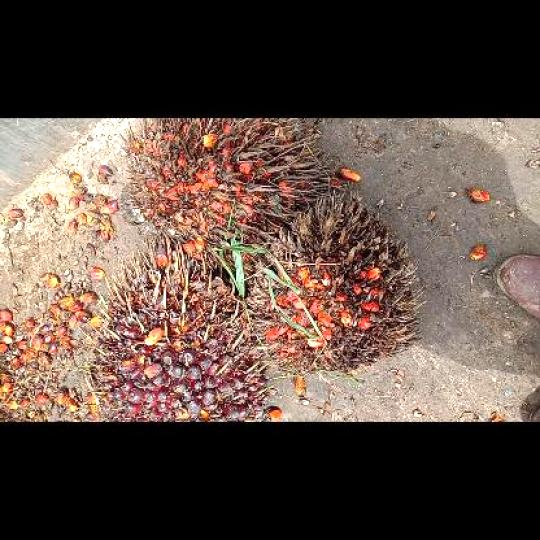masak: (90, 249, 271, 421)
terlalu masak: (243, 191, 426, 372), (120, 118, 329, 270)
